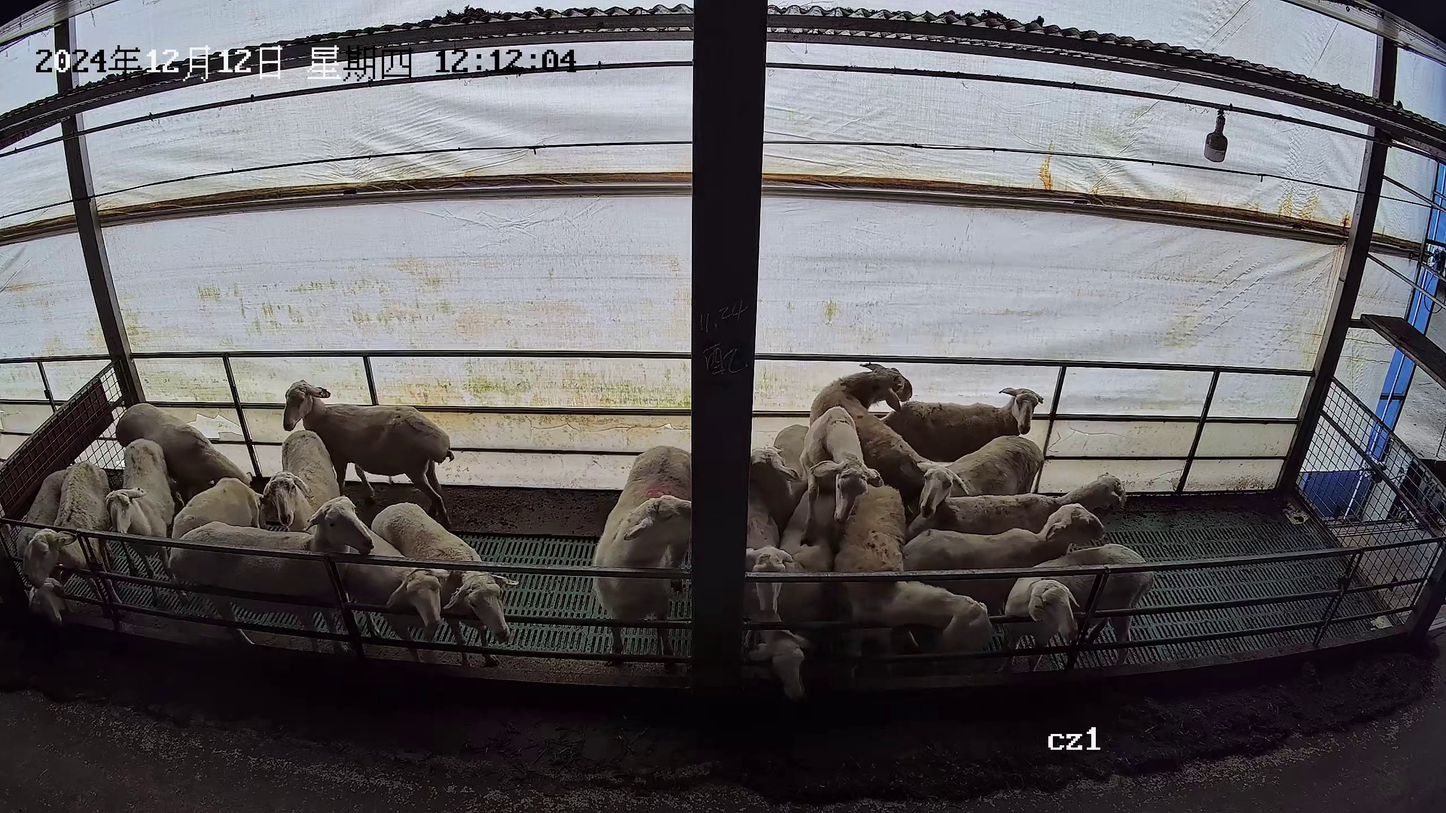Nmounting: (787, 401, 887, 662)
